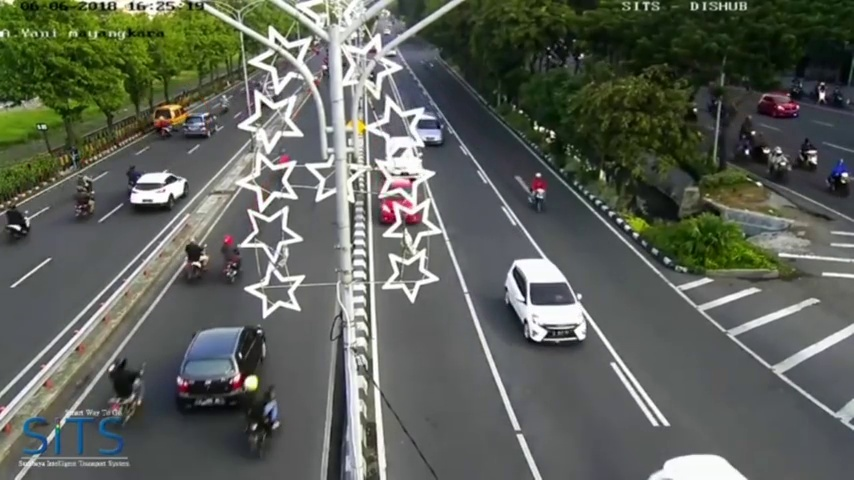car: (172, 328, 264, 417), (506, 257, 585, 349), (131, 170, 187, 214), (758, 90, 799, 119), (412, 109, 443, 145), (185, 113, 218, 140), (155, 103, 184, 133)
motorbike: (241, 377, 282, 454), (104, 356, 148, 427), (184, 234, 210, 285), (220, 232, 244, 285), (6, 202, 34, 240), (825, 157, 850, 196), (768, 145, 791, 186), (74, 182, 94, 218), (530, 171, 548, 211), (798, 137, 818, 173), (753, 134, 769, 163), (733, 132, 749, 161), (741, 113, 757, 139), (126, 166, 140, 193)
